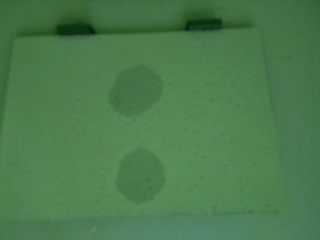Water_detected: (119, 69, 165, 109), (125, 151, 166, 193)
